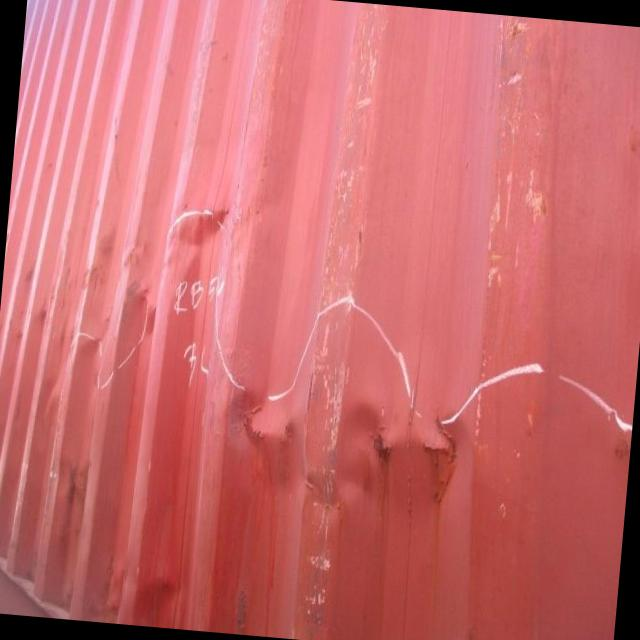Deframe_or_Dent: (210, 352, 493, 557), (113, 198, 240, 346), (104, 561, 181, 619)
